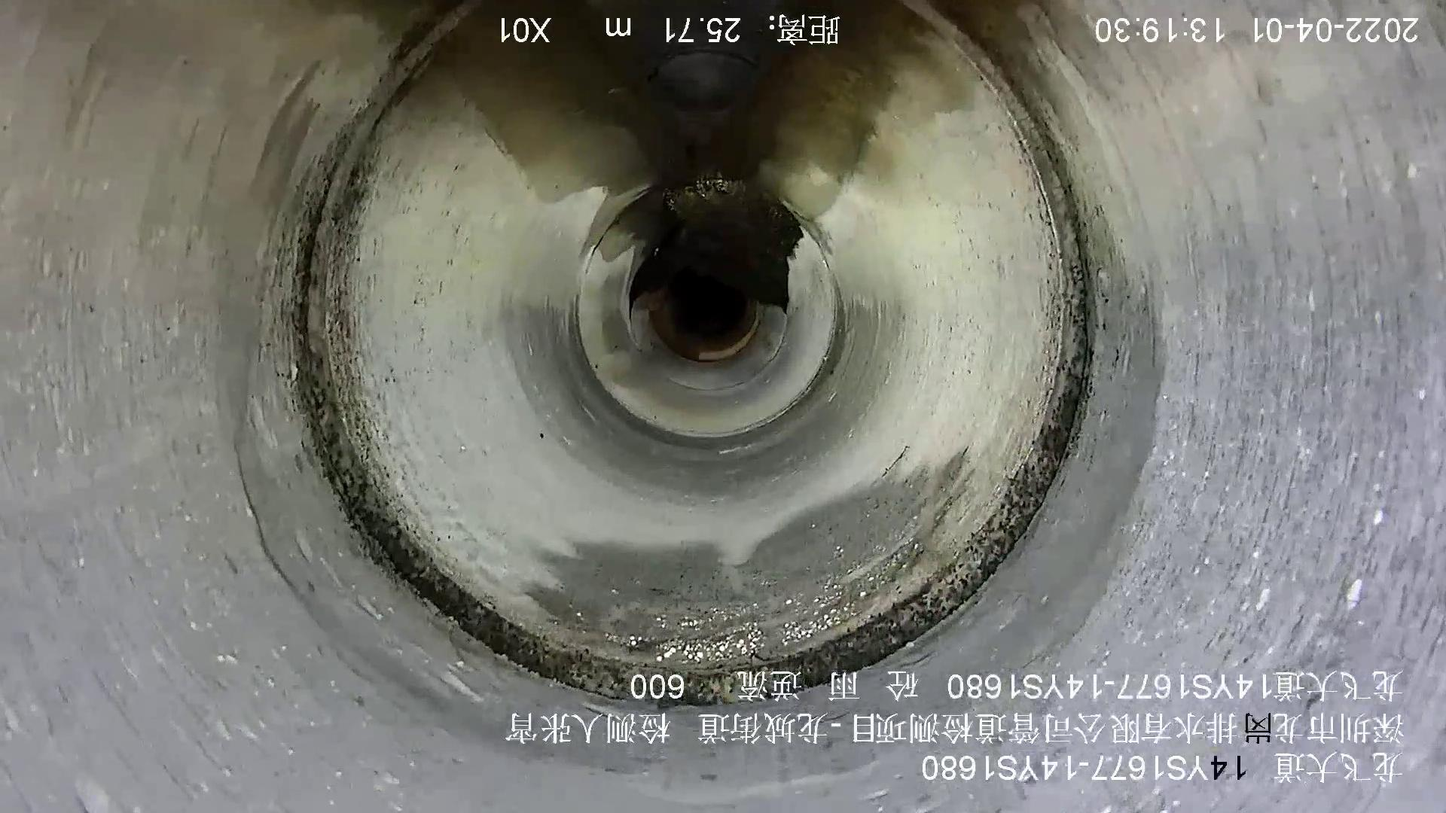CJ: (660, 179, 803, 306)
CKTJ: (286, 1, 1095, 708)
